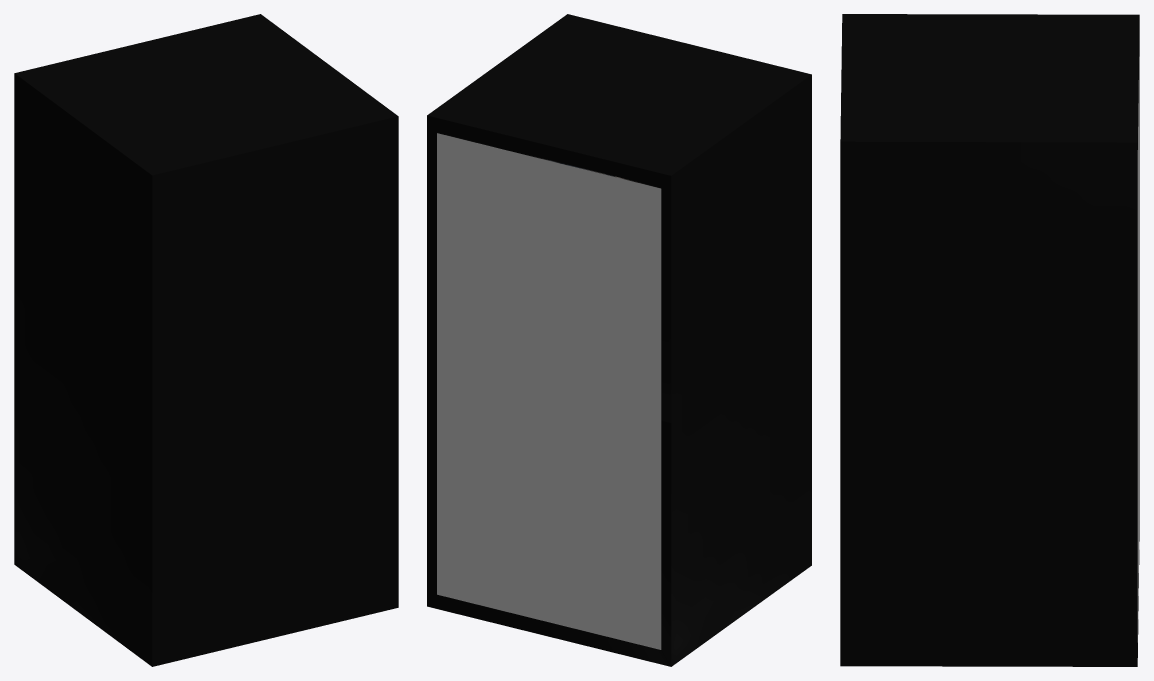
The model's file is Speakers02.fbx.
3 renders of one model, left to right at view 1: azimuth 30°, elevation 25°; view 2: azimuth 150°, elevation 25°; view 3: azimuth 270°, elevation 25°, orthographic. The views are drawn at different scales.
Parts seen in each view (by area): view 1: Empty_Mesh; view 2: Empty_Mesh; view 3: Empty_Mesh.
Boxes of the visible parts, bbox=[...] form: Empty_Mesh: bbox=[14, 14, 398, 666]; Empty_Mesh: bbox=[427, 14, 811, 666]; Empty_Mesh: bbox=[840, 14, 1139, 666].
Size of the model in its own units: 212 by 403 by 208.
